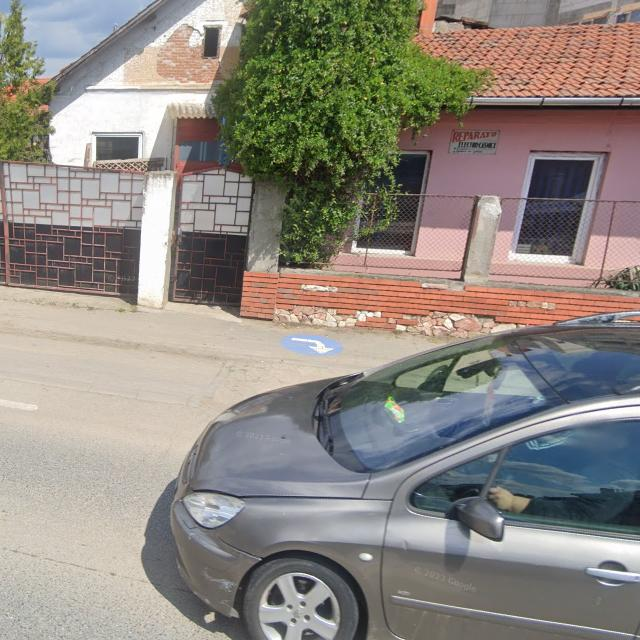mand_right: (280, 334, 344, 356)
